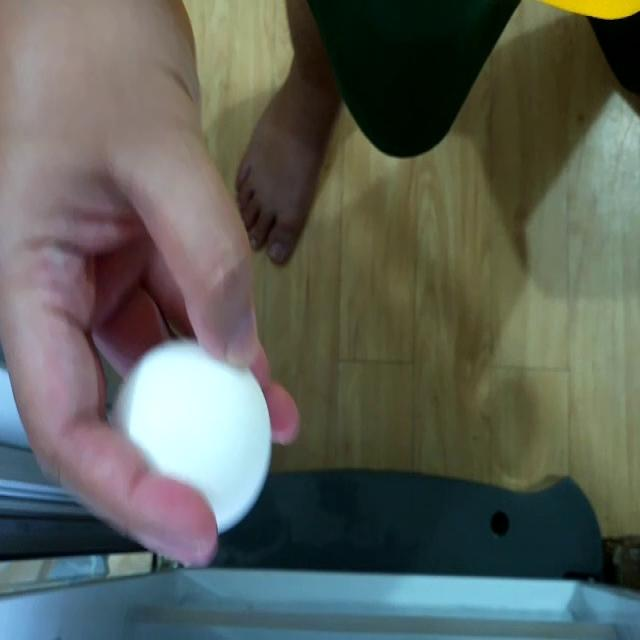egg: (112, 338, 280, 534)
